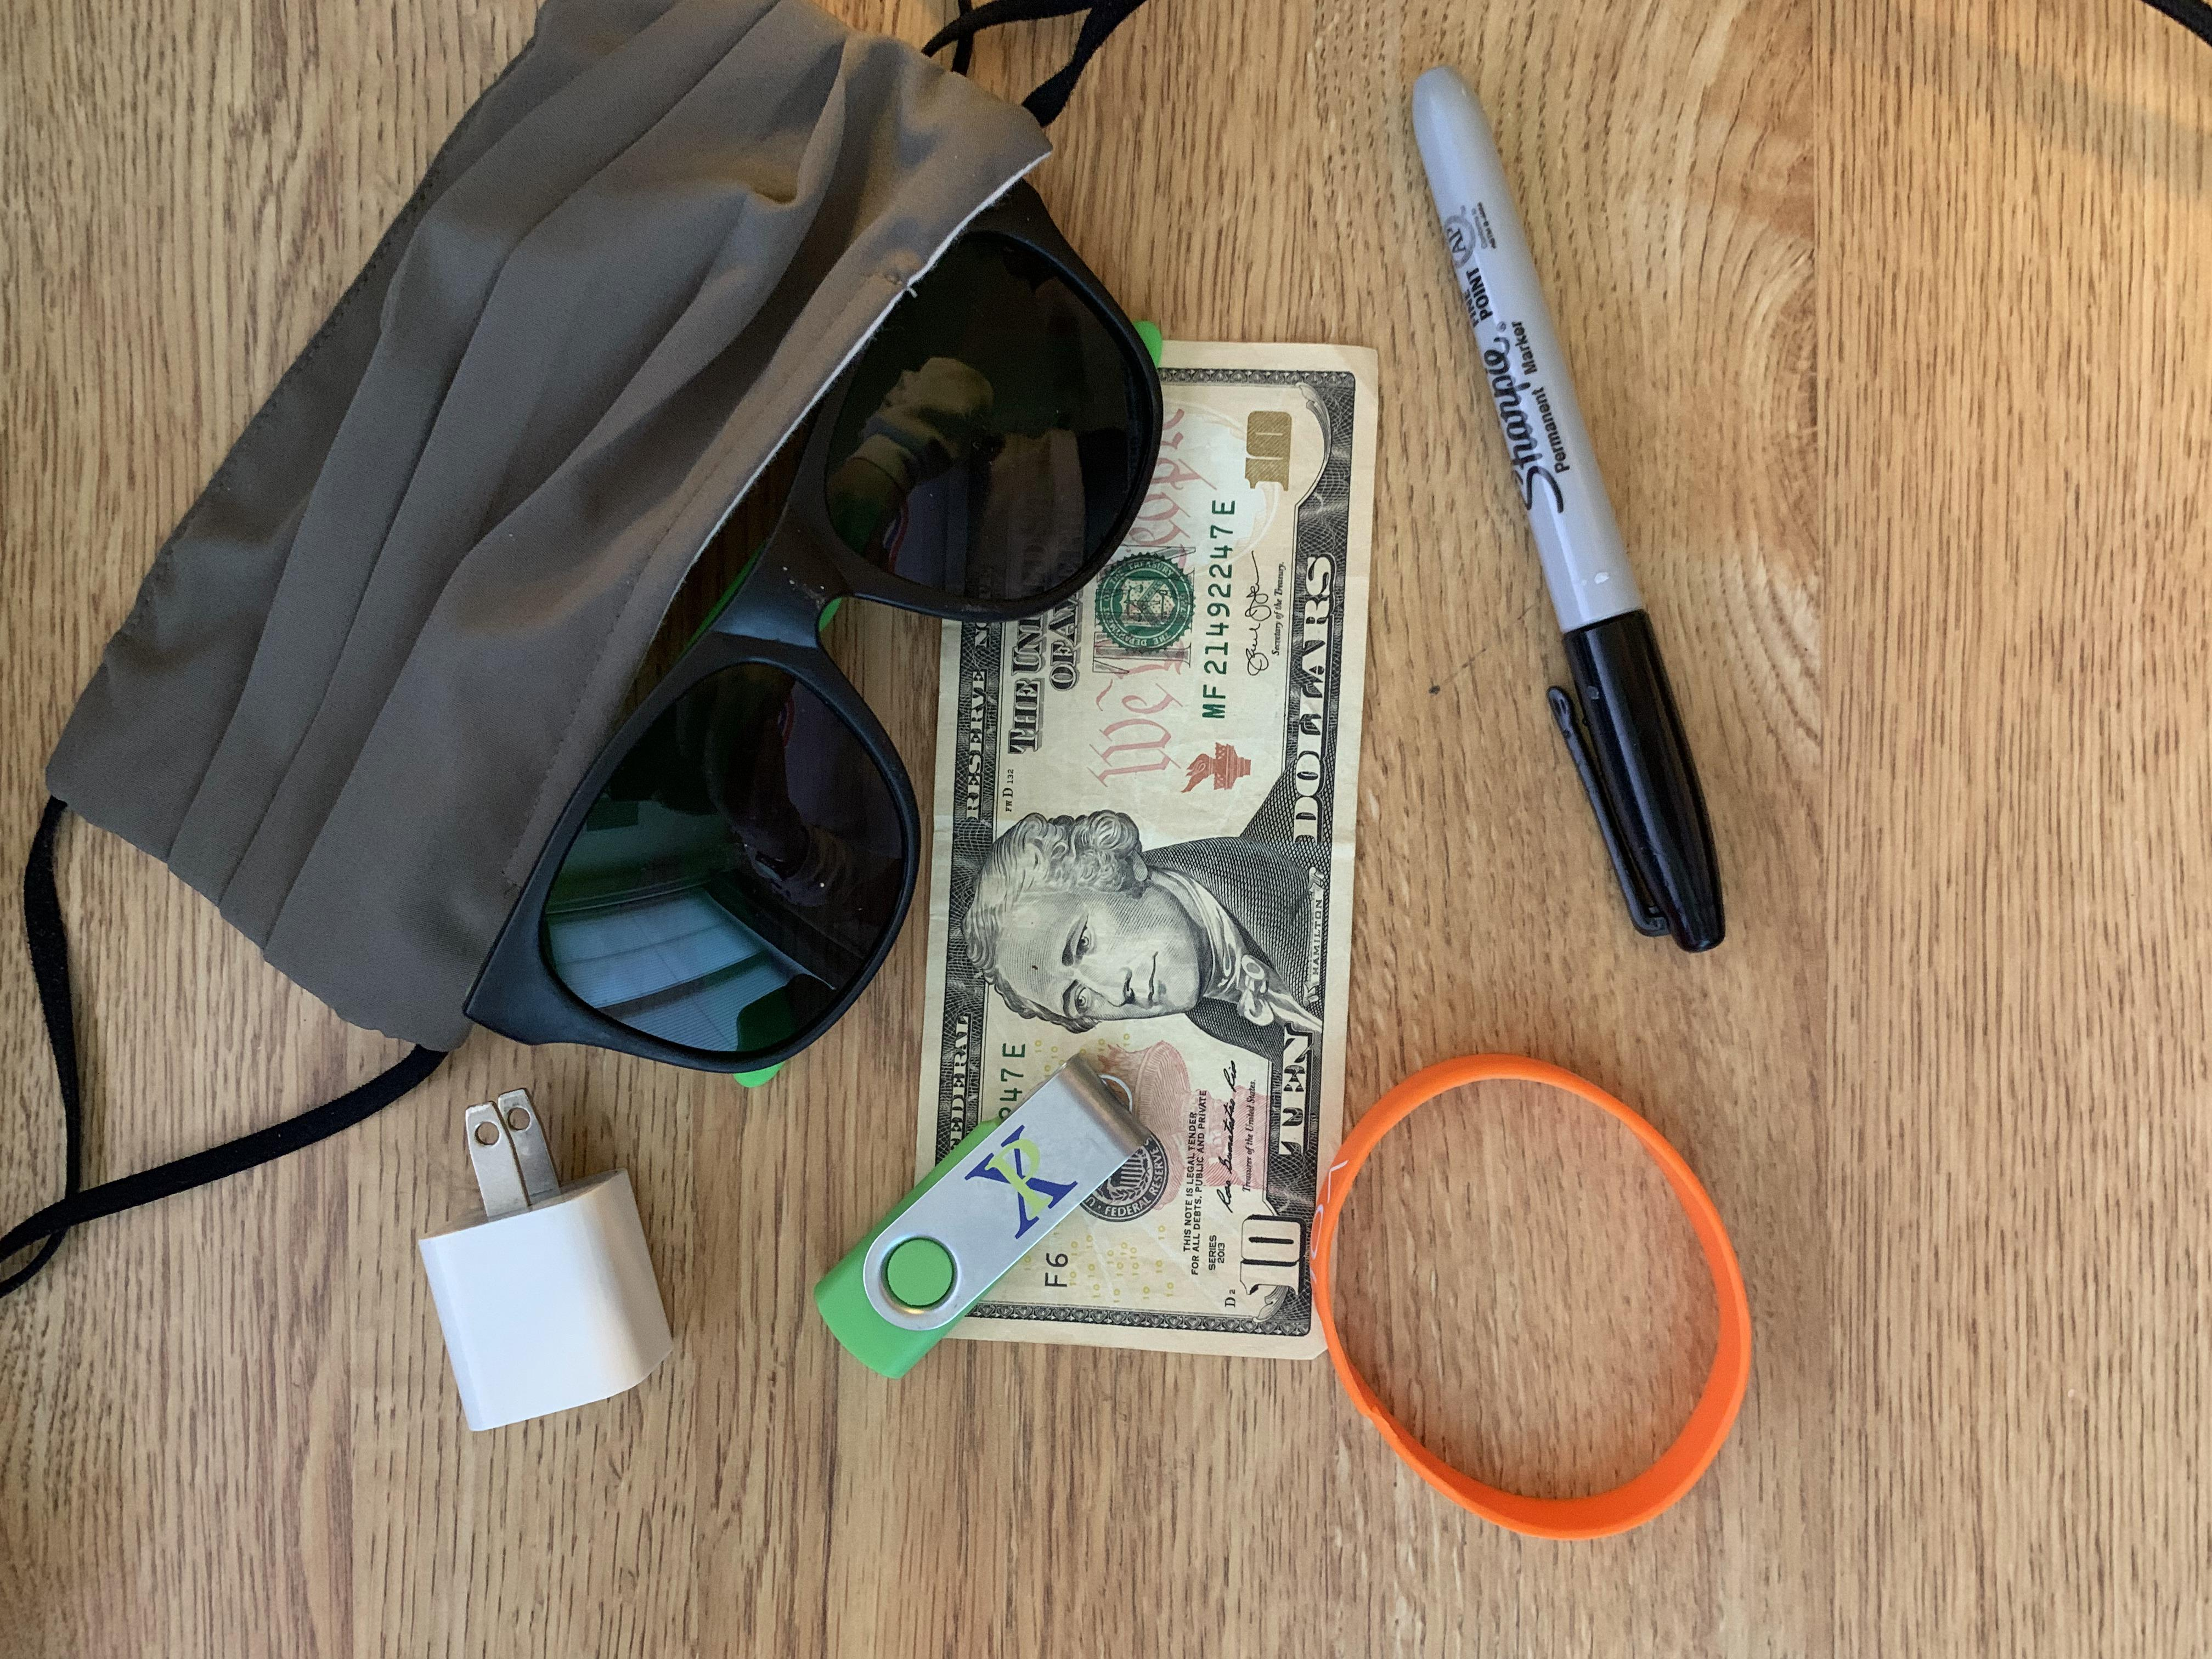TenBill: (900, 293, 1378, 1370)
